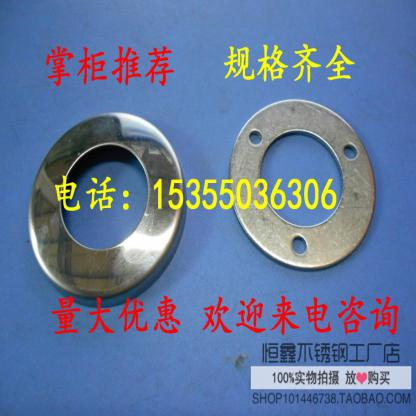FOD: (228, 95, 378, 272)
